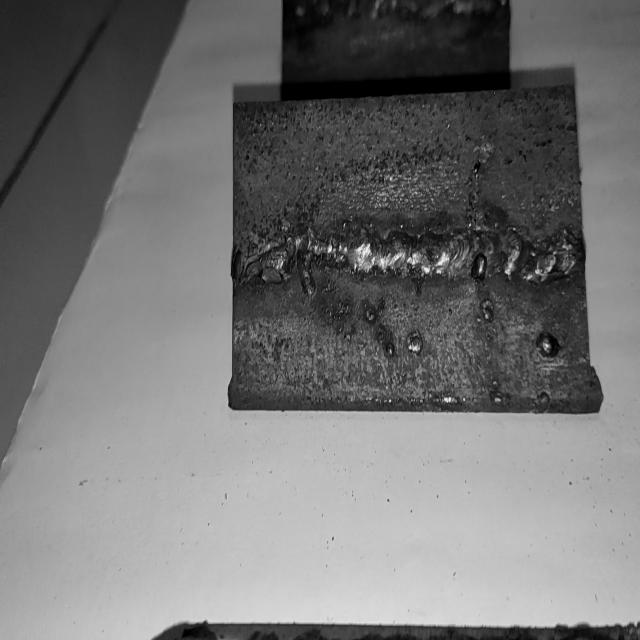Bad Weld: (238, 218, 586, 288)
Defect: (462, 218, 584, 298), (239, 217, 337, 296)
